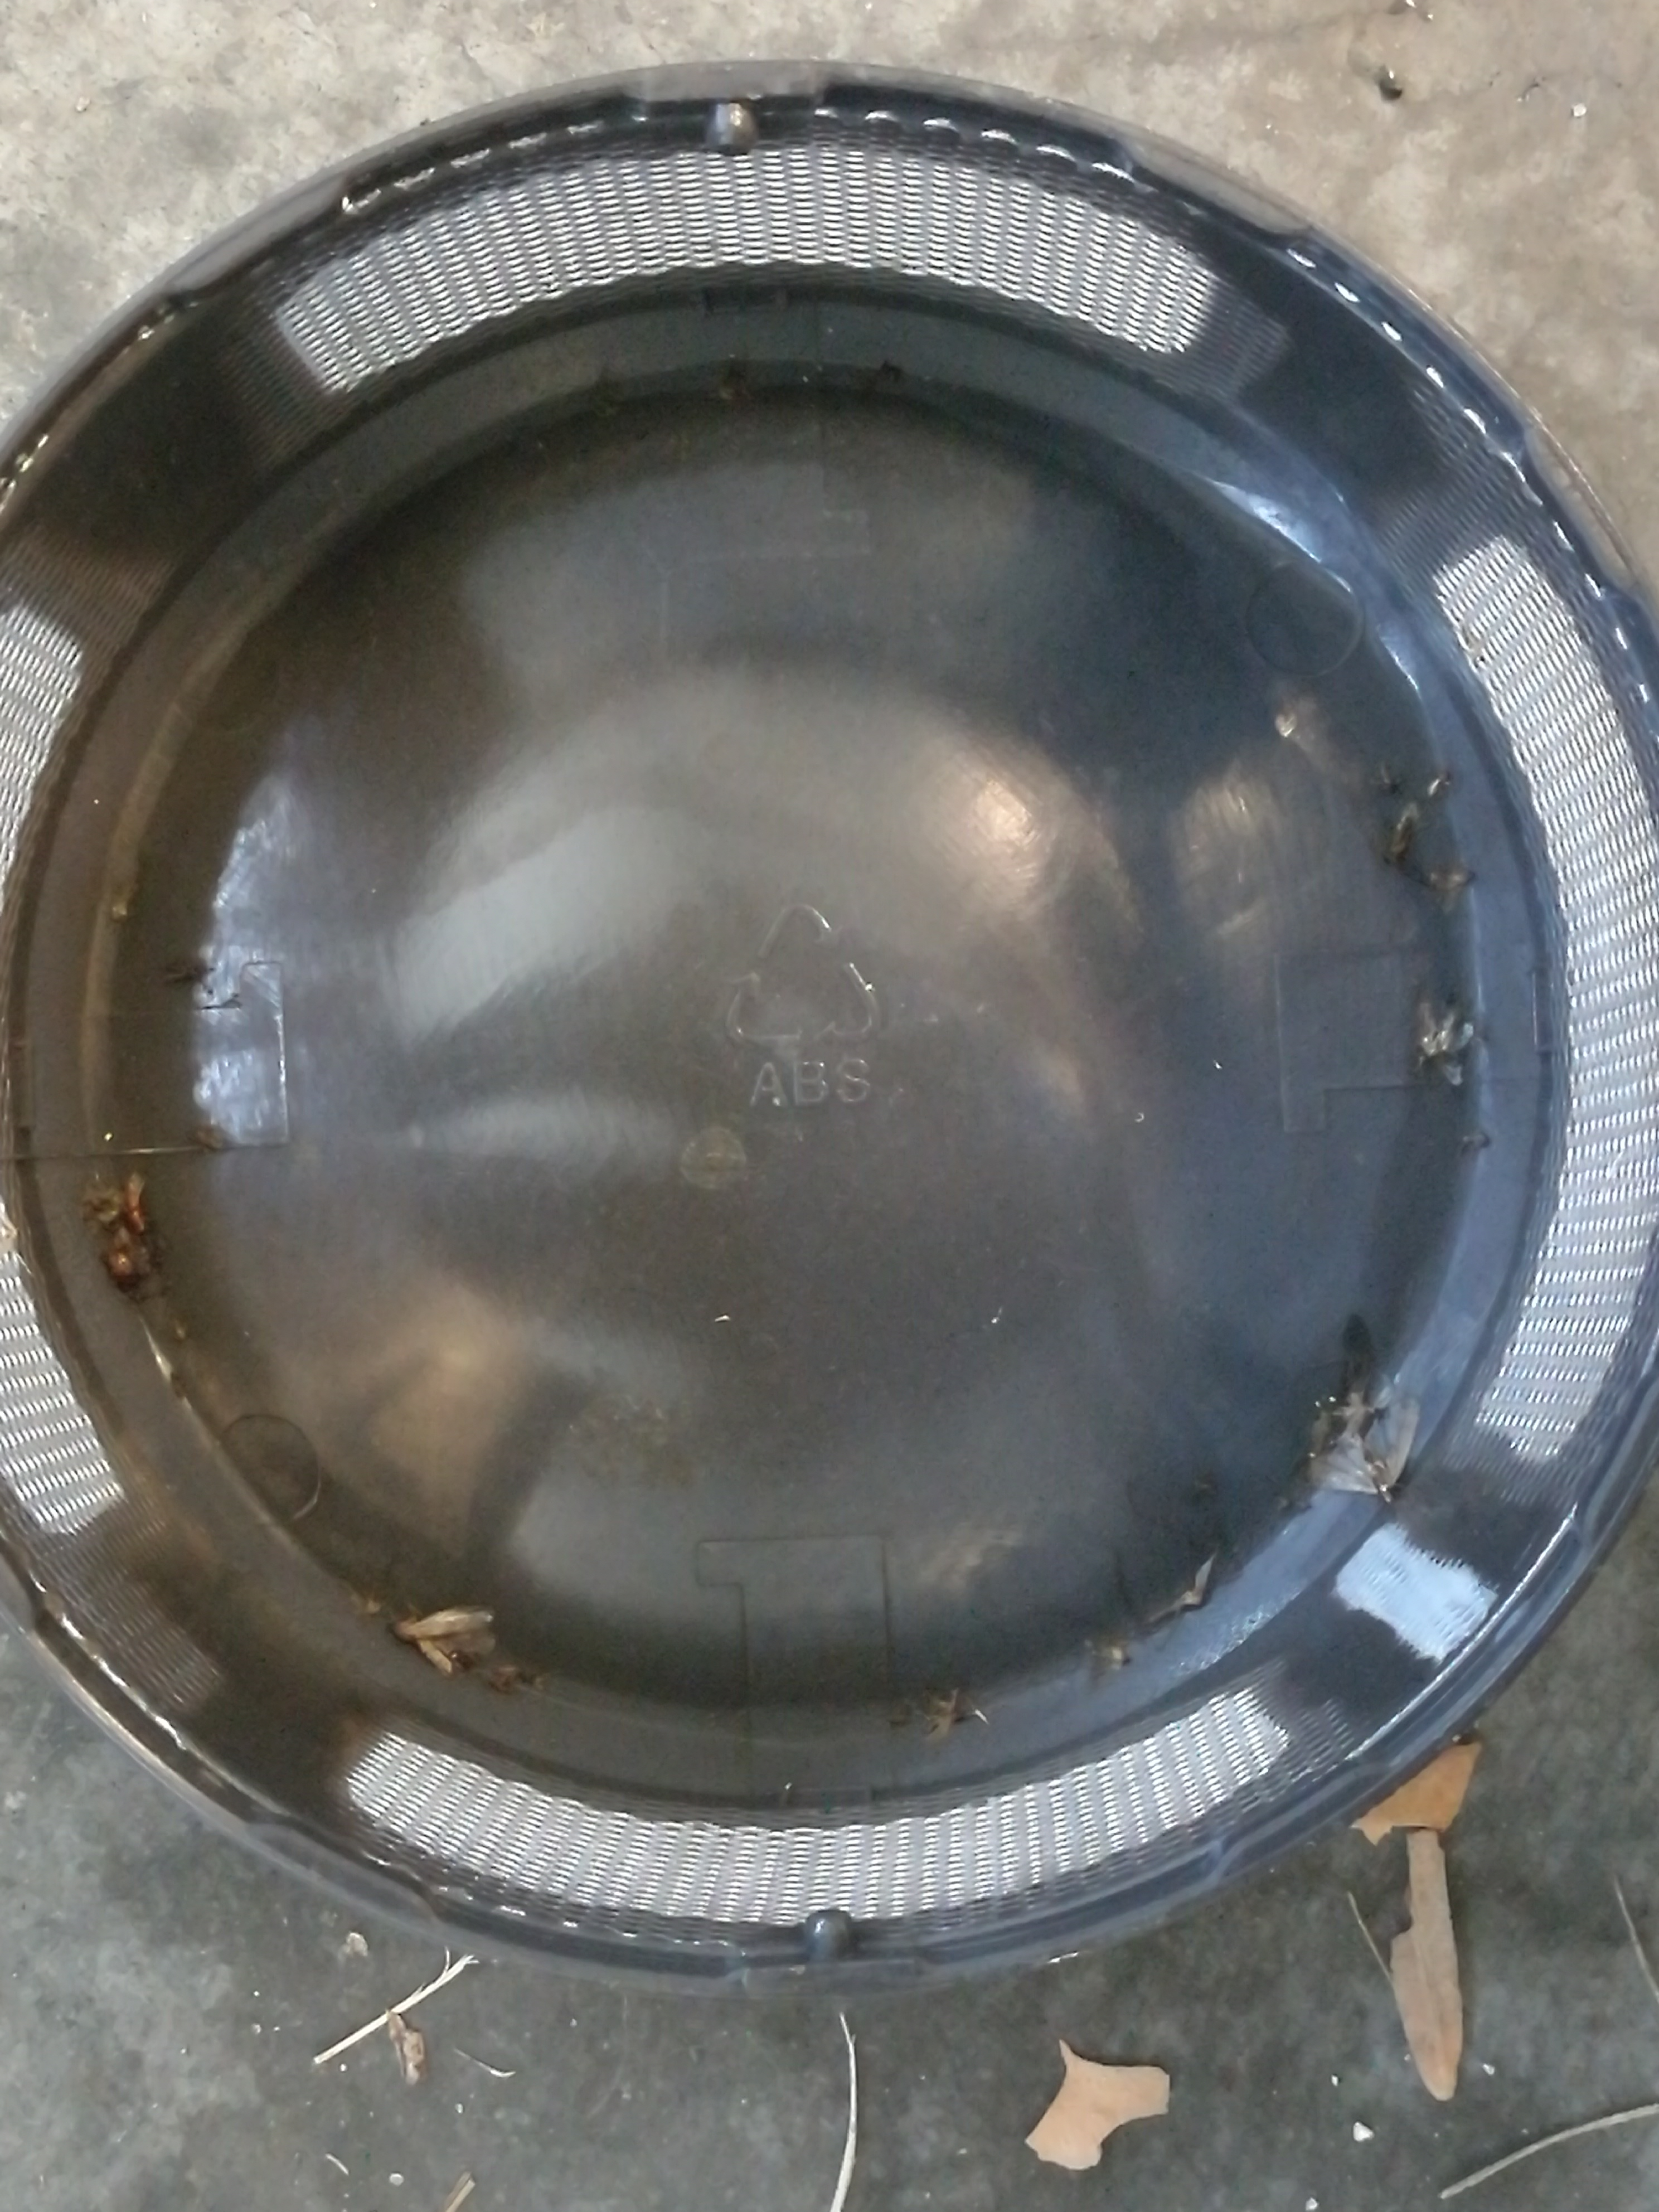moth: (1310, 1393, 1415, 1496), (394, 1606, 491, 1677), (1415, 993, 1471, 1085)
